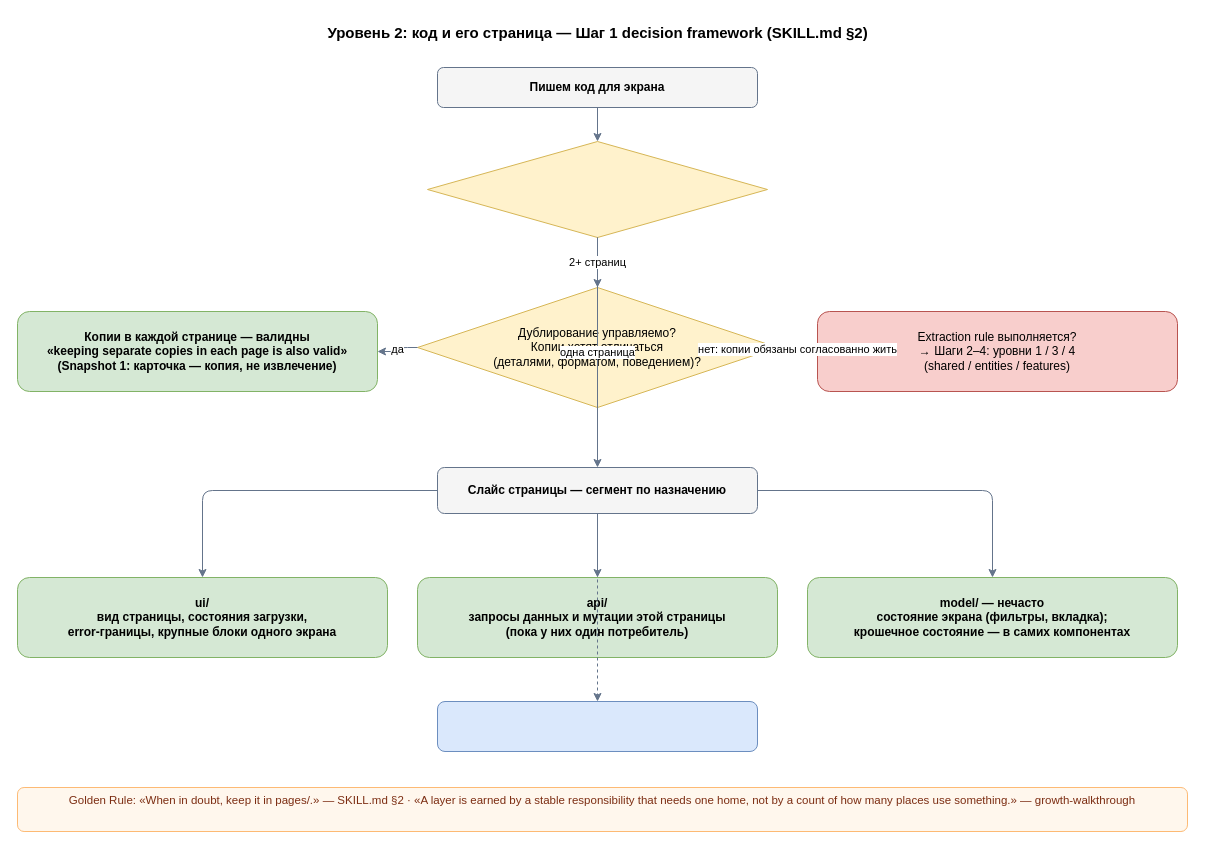
Some shapes in this 1205 by 849 pixel diagram are drawn without their labels. The shapes that lost their labels are listed below. From the top down, each one's centre as x and y in pixels, then its label:
At point (597, 189): "Шаг 1: Where is this code used? Где этот код используется?".
At point (597, 726): "index.ts — публичный API слайса страницы: наружу только страница".
